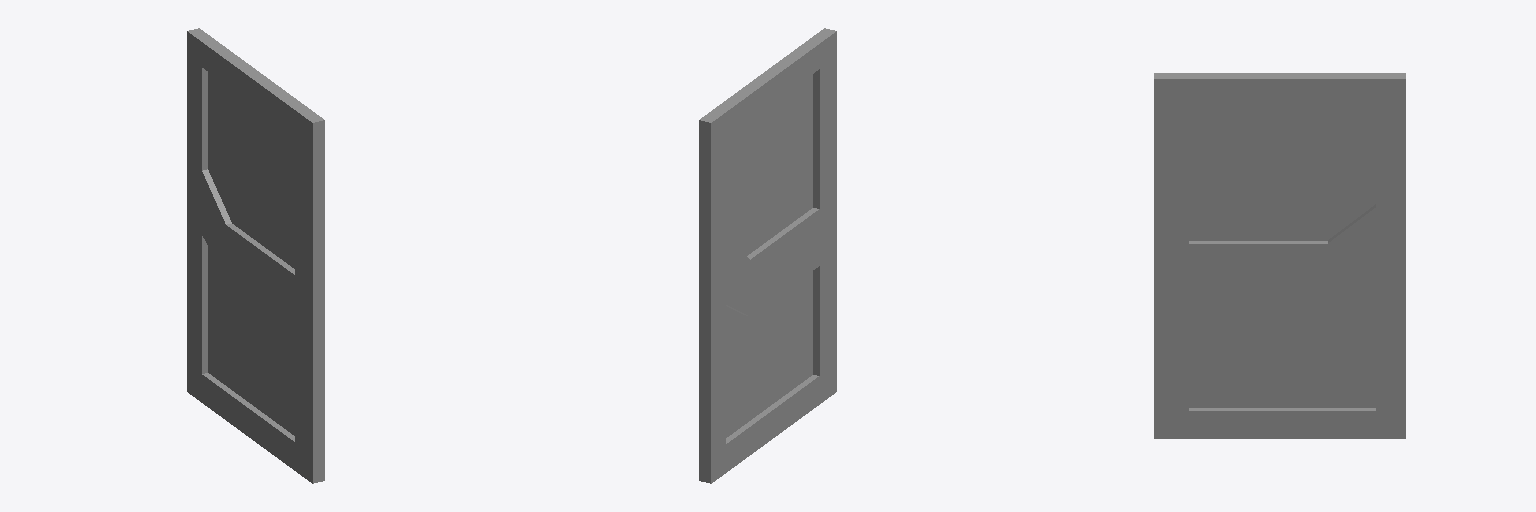
Rendered from door_a1.obj.
3 views of the same model, side by side, from view 1: azimuth 30°, elevation 25°; view 2: azimuth 150°, elevation 25°; view 3: azimuth 270°, elevation 25° (orthographic).
Parts seen in each view (by area): view 1: Cube; view 2: Cube; view 3: Cube.
Part boxes in pixels (x1,y1,x2,y2): Cube: (187,28,324,483); Cube: (699,28,836,483); Cube: (1154,73,1405,438).
Size of the model in its own units: 0.0859 by 2.4 by 1.51.